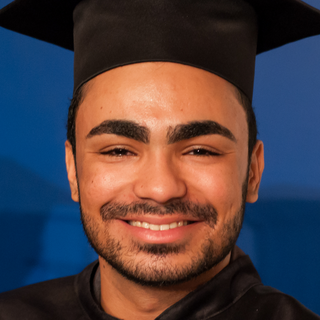eye: (91, 140, 143, 166), (175, 140, 228, 163)
